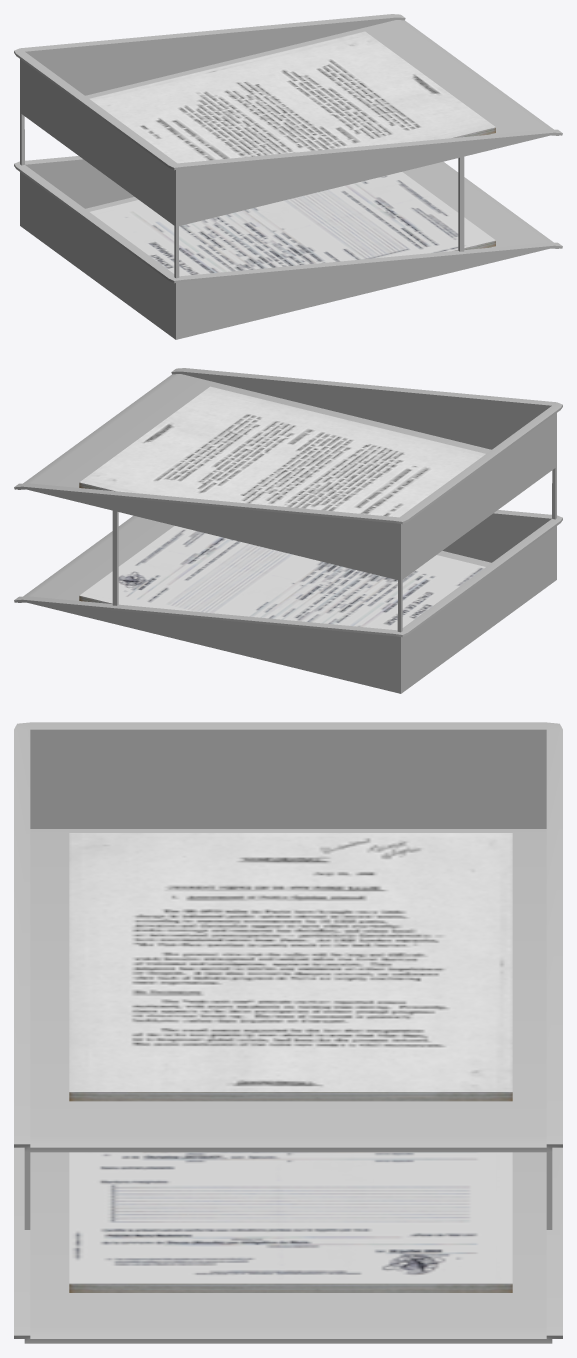
The model's file is File_desk.FBX.
3 views of the same model, one above another, from view 1: azimuth 30°, elevation 25°; view 2: azimuth 150°, elevation 25°; view 3: azimuth 270°, elevation 25° (orthographic). The views are drawn at different scales.
Parts seen in each view (by area): view 1: Files_desk; view 2: Files_desk; view 3: Files_desk.
Boxes of the visible parts, box(x1,y1,x2,y2) form: Files_desk: box(14, 14, 562, 339); Files_desk: box(14, 368, 562, 693); Files_desk: box(14, 722, 562, 1343).
Size of the model in its own units: 0.3604 by 0.1568 by 0.26.
